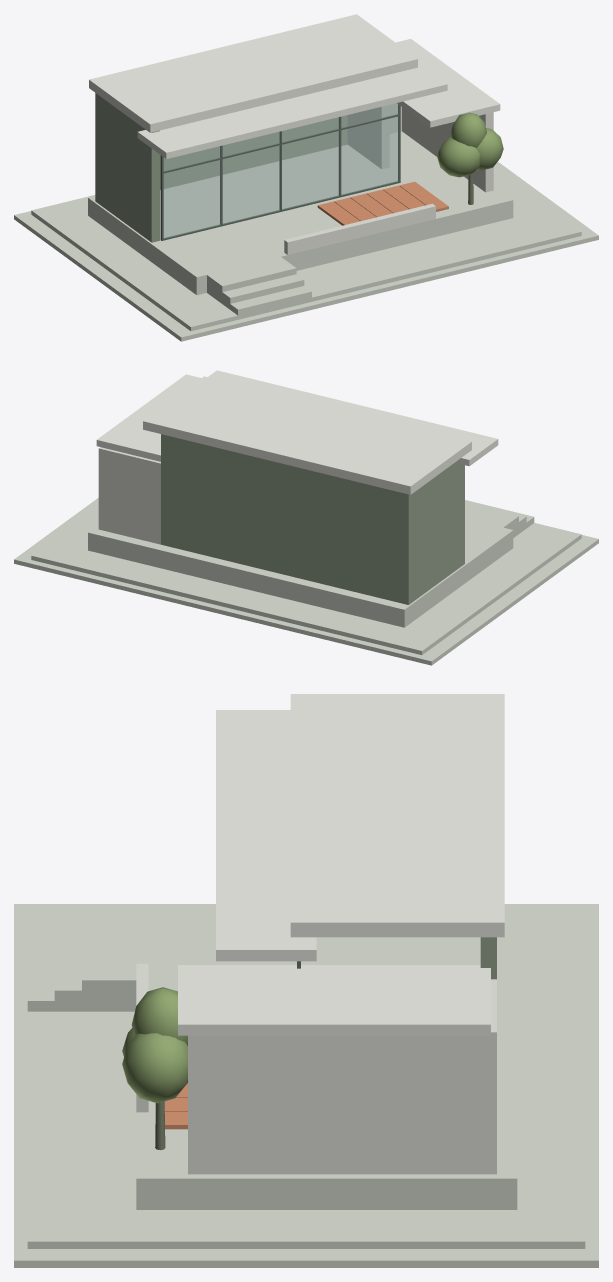
File: arqo-demo-house-01.glb
The picture shows the model from 3 angles, top to bottom: view 1: azimuth 30°, elevation 25°; view 2: azimuth 150°, elevation 25°; view 3: azimuth 270°, elevation 25°; orthographic projection. The views are drawn at different scales.
Visible parts, largest first — view 1: Main_Slab, Roof_Upper, Main_Platform, Roof_Canopy, Ground_Base, Wall_Left_Main, Wall_Back_Main, Glass_Panel_01, Glass_Panel_03, Glass_Panel_02, Glass_Panel_04, Roof_Right_Low (+18 smaller); view 2: Wall_Back_Main, Roof_Upper, Main_Platform, Main_Slab, Ground_Base, Wall_Left_Main, Wall_Right_Back, Roof_Canopy, Roof_Right_Low, Stair_Step_03; view 3: Main_Platform, Roof_Upper, Wall_Right_Main, Main_Slab, Roof_Right_Low, Ground_Base, Roof_Canopy, Tree_Canopy_02, Wall_Right_Back, Stair_Step_03, Entry_Platform, Stair_Step_02 (+2 smaller).
Part boxes in pixels (x1,y1,x2,y2): Main_Slab: (88,131,513,294); Roof_Upper: (89,14,417,132); Main_Platform: (31,168,581,331); Roof_Canopy: (137,63,447,158); Ground_Base: (14,162,598,341); Wall_Left_Main: (100,96,159,242); Wall_Back_Main: (95,93,347,204); Glass_Panel_01: (163,146,220,238); Glass_Panel_03: (282,117,339,209); Glass_Panel_02: (222,131,279,223); Glass_Panel_04: (341,103,398,194); Roof_Right_Low: (395,39,500,127); Wall_Back_Main: (161,434,413,604); Roof_Upper: (143,376,471,494); Main_Platform: (31,506,581,654); Main_Slab: (88,518,513,627); Ground_Base: (14,498,598,665); Wall_Left_Main: (413,459,464,601); Wall_Right_Back: (98,447,160,544); Roof_Canopy: (208,370,498,466); Roof_Right_Low: (96,374,201,461); Stair_Step_03: (465,503,518,537); Main_Platform: (27,908,585,1248); Roof_Upper: (290,694,504,937); Wall_Right_Main: (188,1035,480,1174); Main_Slab: (136,908,517,1209); Roof_Right_Low: (178,965,490,1035); Ground_Base: (14,904,598,1267); Roof_Canopy: (216,710,316,961); Tree_Canopy_02: (122,1033,187,1103); Wall_Right_Back: (480,979,496,1174); Stair_Step_03: (82,917,109,1011); Entry_Platform: (109,917,136,1011); Stair_Step_02: (54,927,81,1011).
Size of the model in its own units: 12.4 by 4.19 by 8.6.
